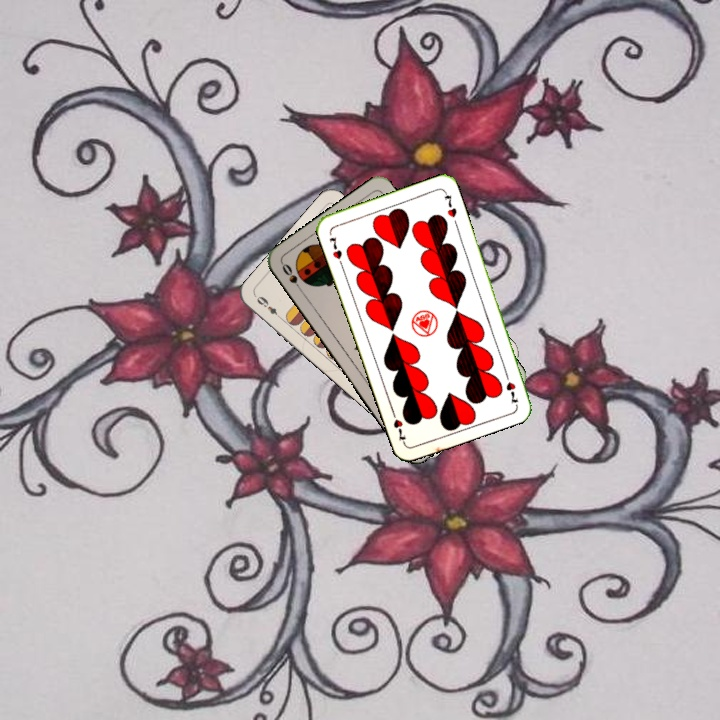E9: (251, 292, 285, 322)
H7: (501, 367, 521, 406), (325, 232, 345, 269)
SO: (278, 259, 306, 296)
